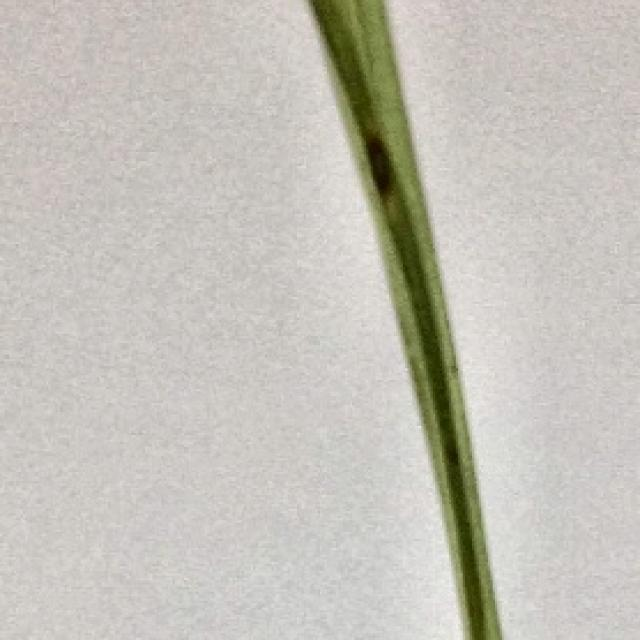Leaf_Blast: (366, 130, 408, 226)
